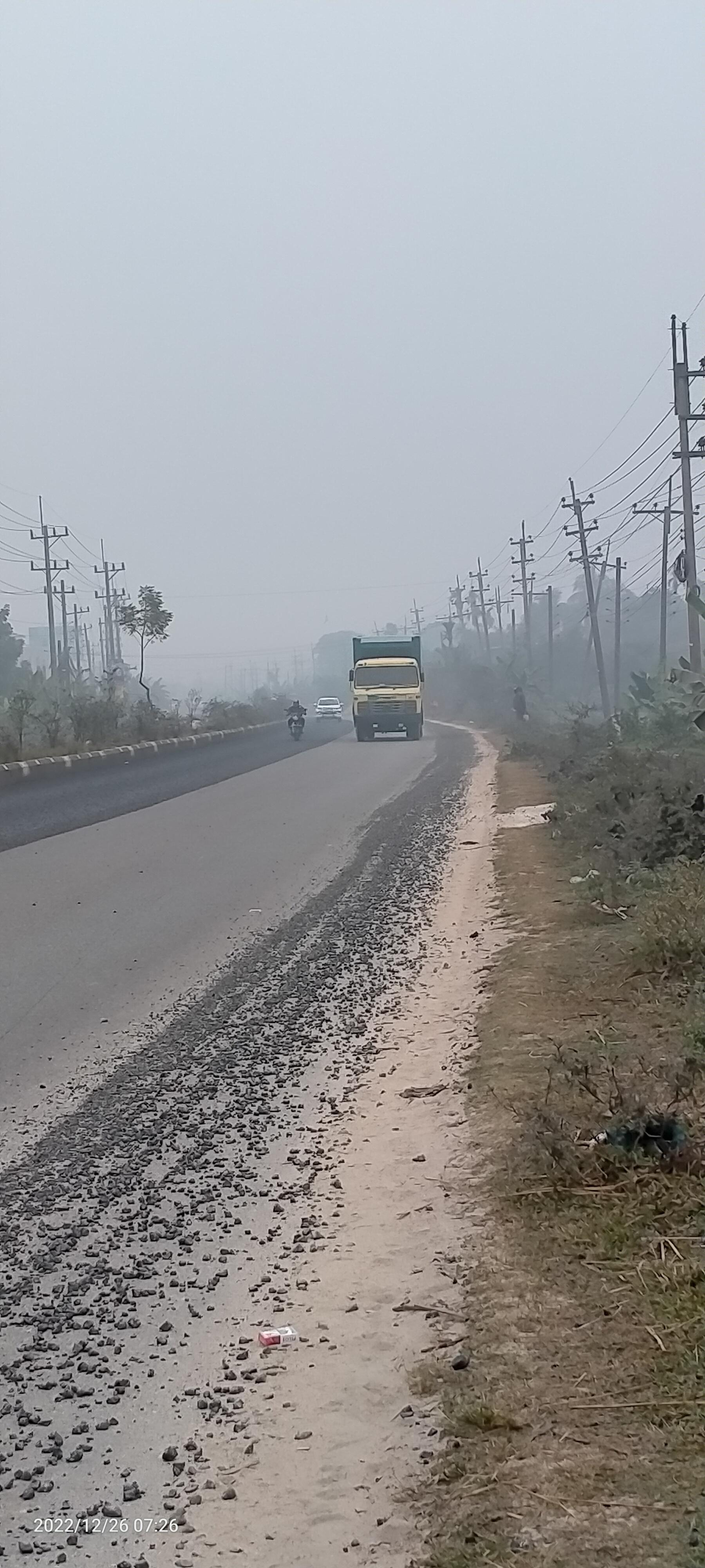Bike: (268, 696, 321, 748)
Car: (316, 689, 344, 727)
Truck: (339, 630, 442, 746)
